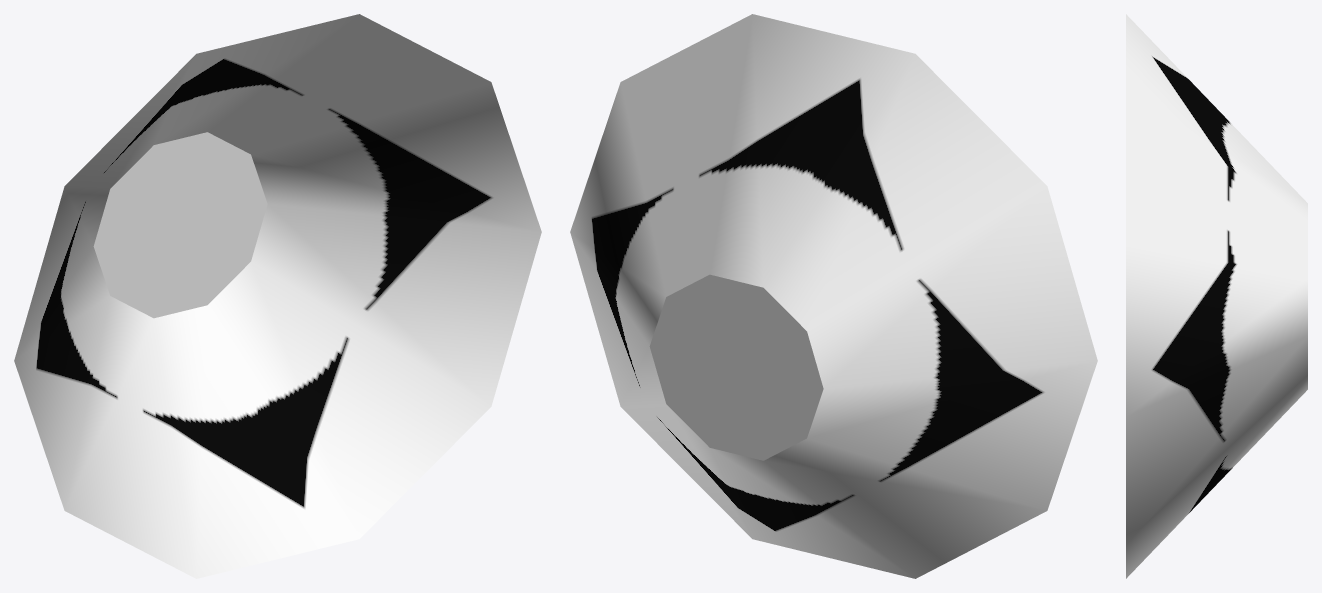
Rendered from Flash.fbx.
3 renders of one model, left to right at view 1: azimuth 30°, elevation 25°; view 2: azimuth 150°, elevation 25°; view 3: azimuth 270°, elevation 25°, orthographic. The views are drawn at different scales.
Parts seen in each view (by area): view 1: Flash; view 2: Flash; view 3: Flash.
Part boxes in pixels (<box>): Flash: <box>14,14,541,578</box>; Flash: <box>570,14,1097,578</box>; Flash: <box>1126,14,1307,578</box>.
Size of the model in its own units: 204 by 194 by 65.28.
